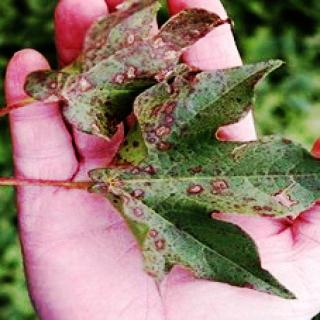leaf spot: (98, 116, 306, 294), (30, 3, 199, 105)
